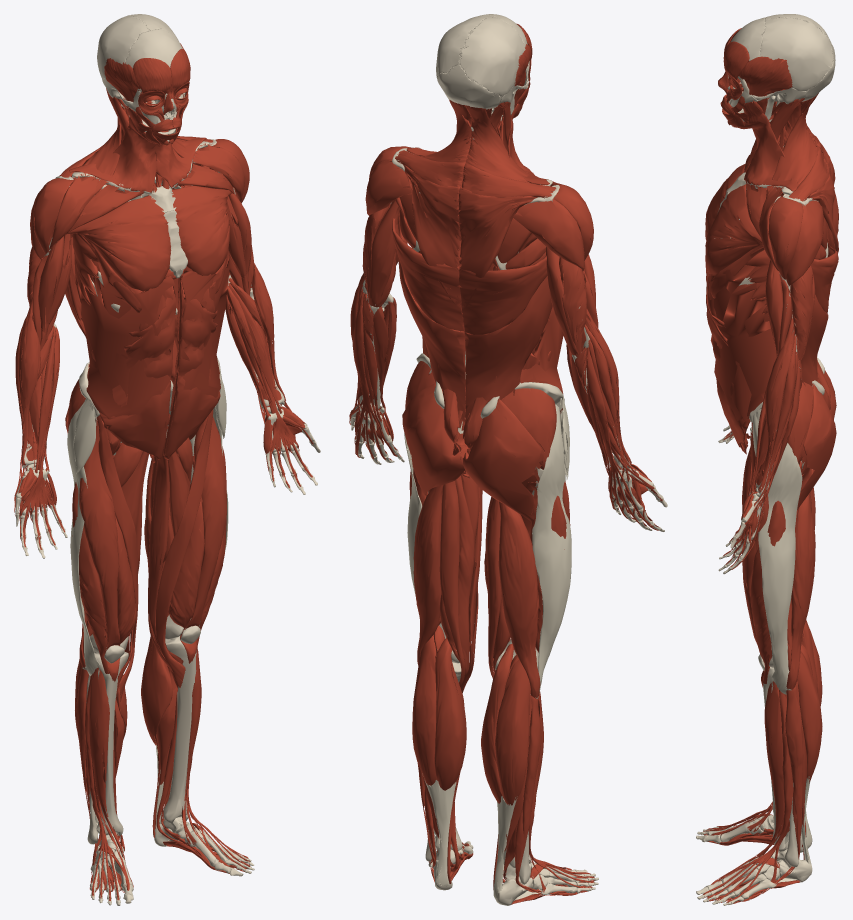
File: rotational-atlas.glb
3 renders of one model, left to right at view 1: azimuth 30°, elevation 25°; view 2: azimuth 150°, elevation 25°; view 3: azimuth 270°, elevation 25°, orthographic. The views are drawn at different scales.
Visible parts, largest first — view 1: Muscle tissue (×6), Skeletal support (×2), Tendons and fascia; view 2: Muscle tissue (×6), Skeletal support (×2), Tendons and fascia; view 3: Muscle tissue (×6), Skeletal support (×2), Tendons and fascia.
Boxes of the visible parts, x1,y1,x2,y2 form: Muscle tissue (×6): [14, 43, 313, 900]; Skeletal support (×2): [15, 14, 320, 905]; Tendons and fascia: [33, 369, 283, 862]; Muscle tissue (×6): [349, 23, 662, 904]; Skeletal support (×2): [350, 14, 667, 905]; Tendons and fascia: [378, 115, 613, 900]; Muscle tissue (×6): [703, 28, 838, 904]; Skeletal support (×2): [696, 14, 835, 905]; Tendons and fascia: [749, 409, 811, 883].
Size of the model in its own units: 0.648 by 1.71 by 0.2603.
